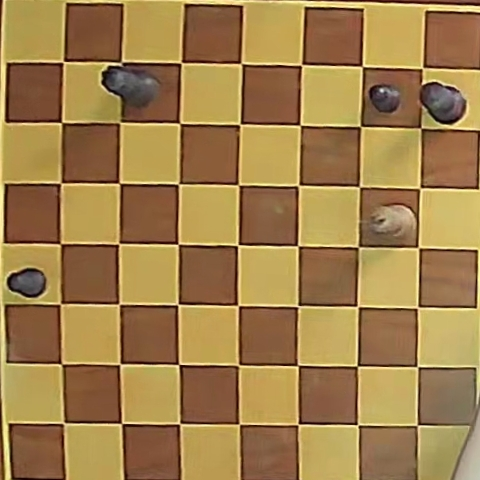black-king: (420, 82, 465, 124)
black-pawn: (7, 268, 46, 298), (369, 84, 402, 113)
black-queen: (102, 65, 162, 110)
white-king: (364, 204, 416, 244)
